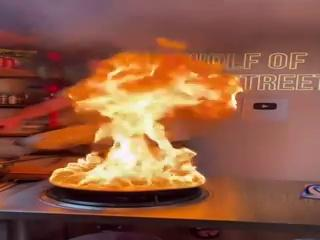Fire: (42, 44, 220, 192)
